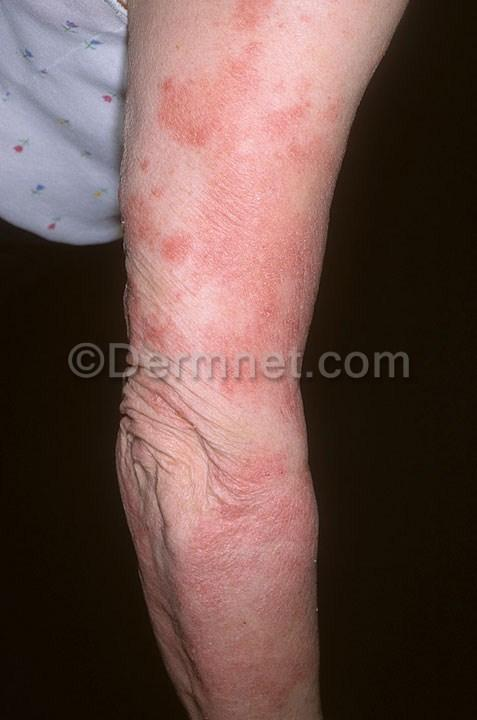Eczema: (196, 430, 291, 526), (129, 194, 221, 283), (137, 94, 226, 186), (111, 287, 187, 370), (136, 207, 197, 277)
